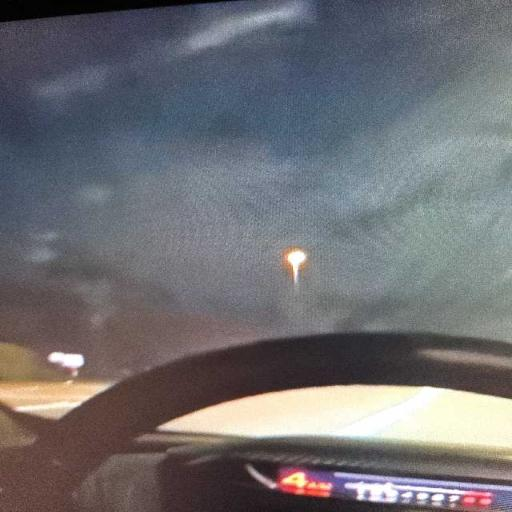car: (0, 0, 511, 511), (2, 334, 511, 511)
lane: (161, 386, 511, 447), (163, 385, 417, 436), (380, 391, 511, 447), (332, 388, 445, 436), (0, 381, 109, 418)
